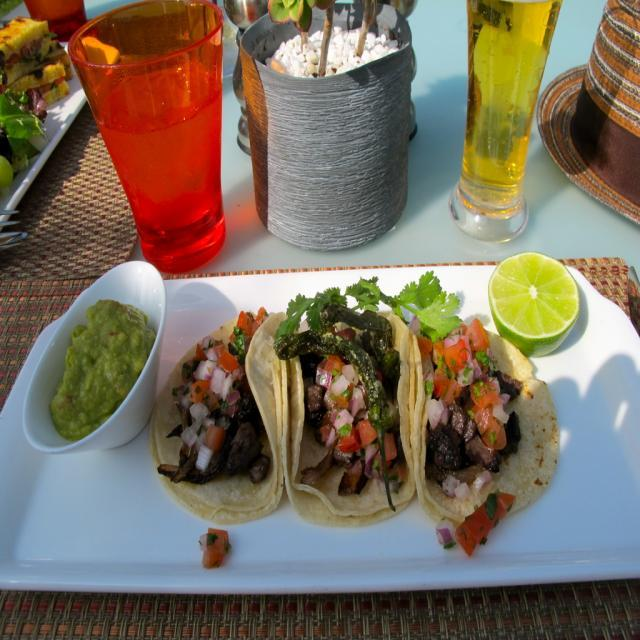Lemon: (488, 251, 581, 357)
